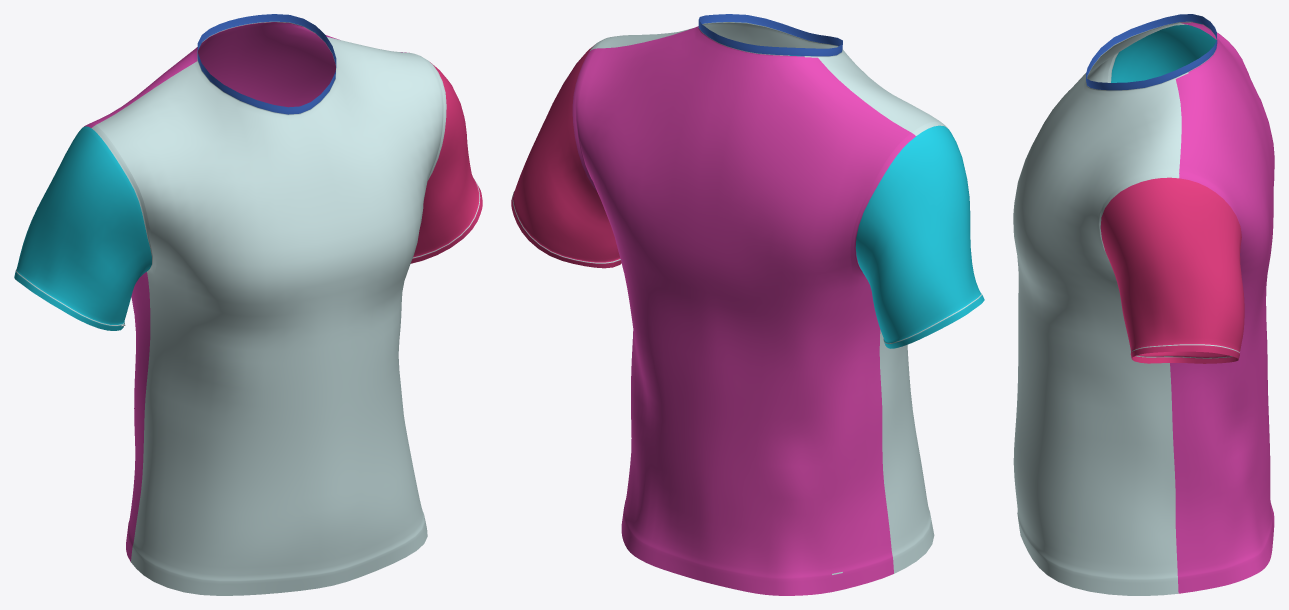
File: stitches.gltf
3 views of the same model, side by side, from view 1: azimuth 30°, elevation 25°; view 2: azimuth 150°, elevation 25°; view 3: azimuth 270°, elevation 25° (orthographic). The views are drawn at different scales.
Visible parts, largest first — view 1: Plane_Plane.008; view 2: Plane_Plane.008; view 3: Plane_Plane.008.
Part boxes in pixels (x1,y1,x2,y2): Plane_Plane.008: (14, 14, 482, 595); Plane_Plane.008: (511, 14, 984, 595); Plane_Plane.008: (1013, 14, 1274, 595).
Size of the model in its own units: 1.01 by 1.09 by 0.5179.
